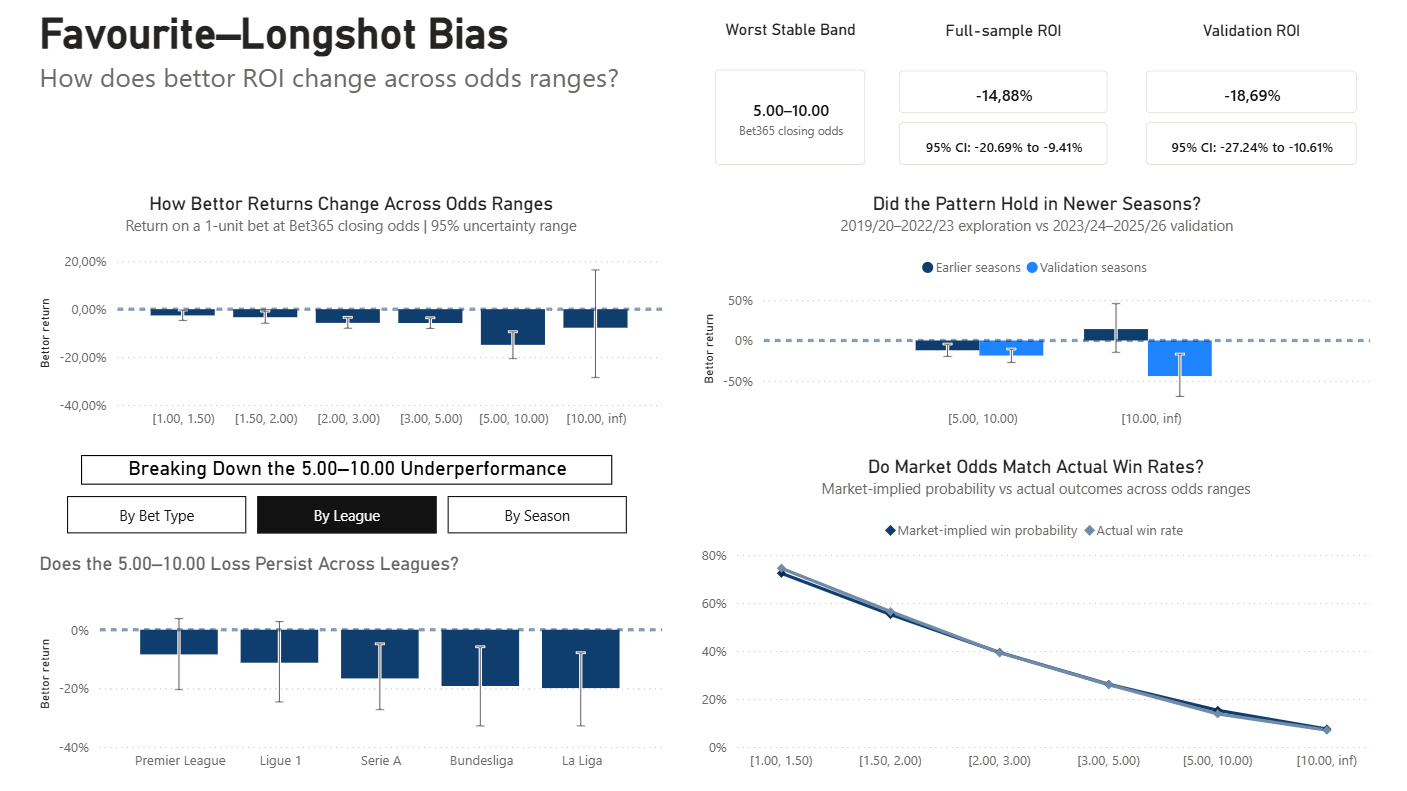

Layout of this report page (visuals, bound fields, positions):
{"tool":"powerbi","page":{"name":"Favourite–Longshot Bias","canvas":[1280,720],"ordinal":2},"visuals":[{"type":"textbox","title":"Favourite–Longshot Bias","box":[31.8,7.3,593.2,97],"z":0},{"type":"cardVisual","title":"Worst Stable Band","fields":{"Data":["Measures_.FLB Worst Stable Band"]},"box":[633.6,19.1,171.8,148.2],"z":1000},{"type":"cardVisual","title":"Full-sample ROI","fields":{"Data":["Measures_.FLB ROI 5-10","Measures_.FLB ROI 5-10 CI"]},"box":[800.9,20,224.5,147.3],"z":2000},{"type":"cardVisual","title":"Validation ROI","fields":{"Data":["Measures_.FLB Validation ROI 5-10","Measures_.FLB Validation ROI 5-10 CI"]},"box":[1025.5,20,226.4,147.3],"z":4000},{"type":"clusteredColumnChart","title":"How Bettor Returns Change Across Odds Ranges","fields":{"Category":["dim_odds_band.odds_band"],"Y":["Max(favourite_longshot_overall.roi)"]},"box":[31.8,174.5,576.4,223.6],"z":6000},{"type":"lineChart","title":"Do Market Odds Match Actual Win Rates?","fields":{"Category":["favourite_longshot_overall.odds_band"],"Y":["Max(favourite_longshot_overall.mean_predicted_probability)","Sum(favourite_longshot_overall.win_rate)"]},"box":[633.6,413.6,618.2,295.5],"z":7000},{"type":"clusteredColumnChart","title":"Did the Pattern Hold in Newer Seasons?","fields":{"Category":["dim_odds_band.odds_band"],"Y":["Max(favourite_longshot_temporal_validation.roi)"],"Series":["favourite_longshot_temporal_validation.analysis_period_label"]},"box":[635.5,174.5,616.4,223.6],"z":8000},{"type":"clusteredColumnChart","title":"Does the 5.00–10.00 Loss Persist Across Leagues?","fields":{"Category":["dim_league.league_name"],"Y":["Max(favourite_longshot_by_league.roi)"]},"box":[31.8,501.8,576.4,207.3],"z":10000},{"type":"textbox","title":"Breaking Down the 5.00–10.00 Underperformance","box":[74.5,413.6,482.7,27.3],"z":12000},{"type":"bookmarkNavigator","box":[61.8,450.9,509.1,34.5],"z":13000}]}

Visuals, with their boxes in screenshot pixels (x1, y1, x2, y2), scaled from the page's 1280x720 canvas onto the 1407x791 screenshot:
"Favourite–Longshot Bias" textbox: 35,8,687,115
"Worst Stable Band" cardVisual: 696,21,885,184
"Full-sample ROI" cardVisual: 880,22,1127,184
"Validation ROI" cardVisual: 1127,22,1376,184
"How Bettor Returns Change Across Odds Ranges" clusteredColumnChart: 35,192,669,437
"Do Market Odds Match Actual Win Rates?" lineChart: 696,454,1376,779
"Did the Pattern Hold in Newer Seasons?" clusteredColumnChart: 699,192,1376,437
"Does the 5.00–10.00 Loss Persist Across Leagues?" clusteredColumnChart: 35,551,669,779
"Breaking Down the 5.00–10.00 Underperformance" textbox: 82,454,612,484
bookmarkNavigator: 68,495,628,533
